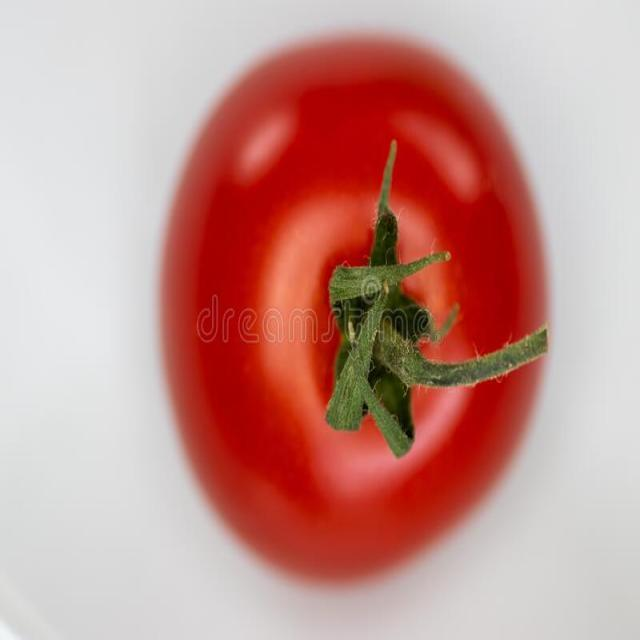kirmizi: (170, 42, 556, 572)
